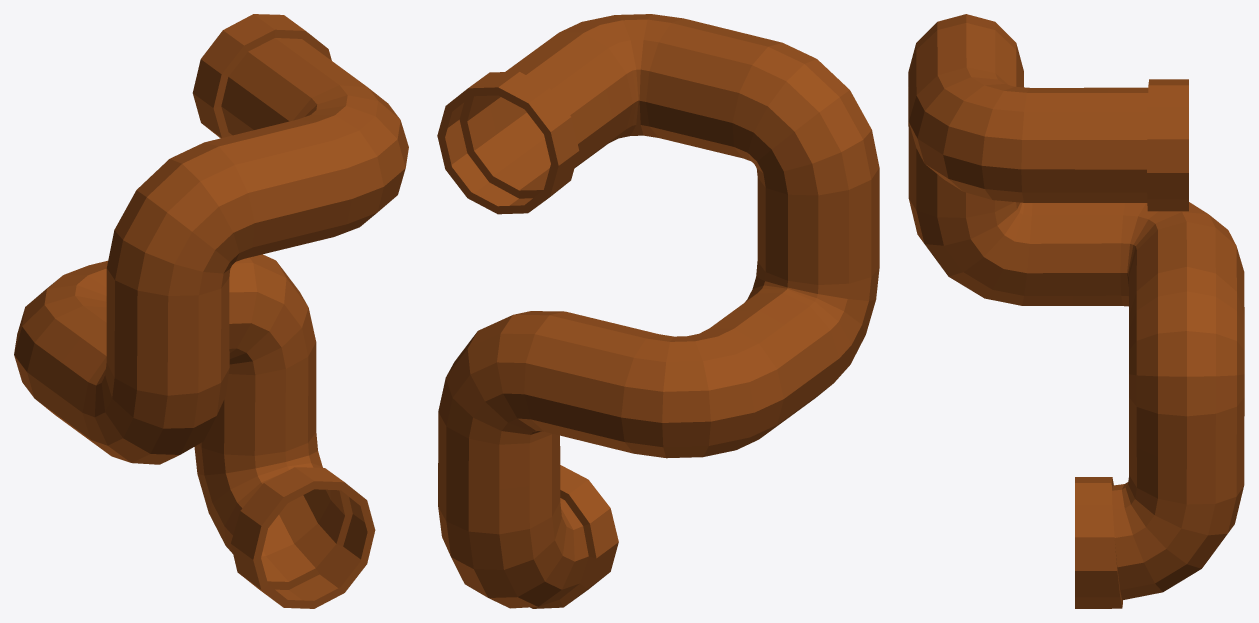
Rendered from up_smooth ramp_pipe.fbx.
3 renders of one model, left to right at view 1: azimuth 30°, elevation 25°; view 2: azimuth 150°, elevation 25°; view 3: azimuth 270°, elevation 25°, orthographic. The views are drawn at different scales.
Visible parts, largest first — view 1: Plane; view 2: Plane; view 3: Plane.
Part boxes in pixels (x1,y1,x2,y2): Plane: [14, 14, 408, 608]; Plane: [437, 14, 879, 608]; Plane: [908, 14, 1244, 608].
Bounding box in the file's own units: 3132 × 5175 × 3045.
